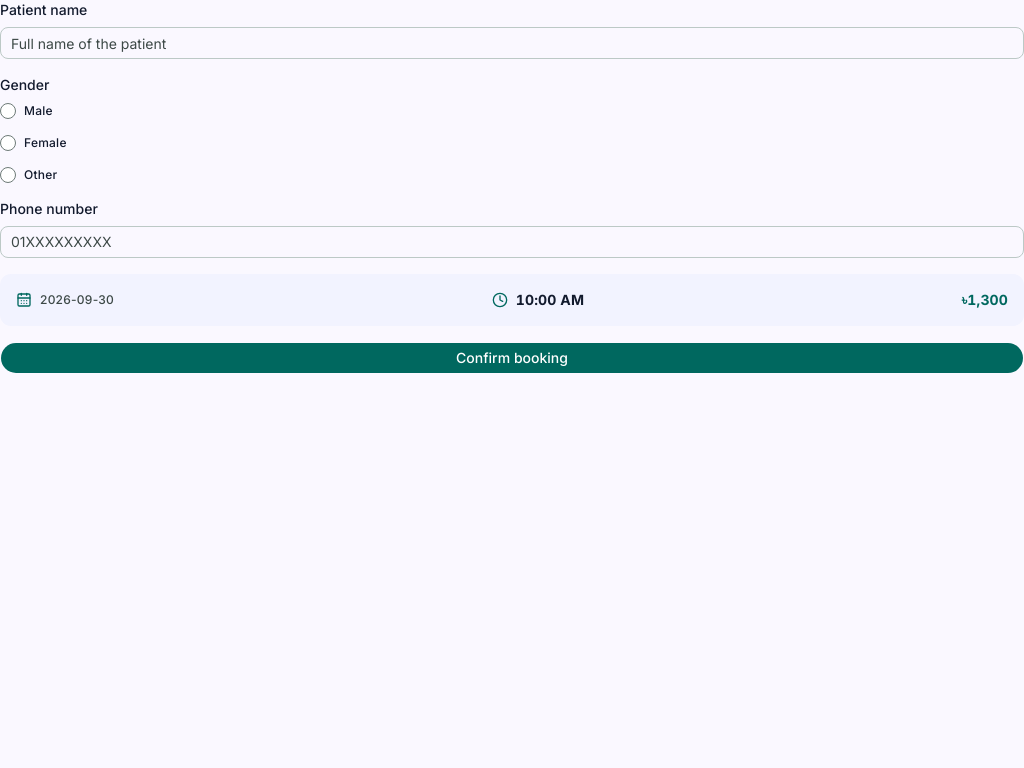
Scenario: BookingForm › posts the booking and opens the success dialog
This screenshot has width=1024, height=768.
Type "Rifat Hossain" into the field labelled "Patient name" at (512, 43), box [0,27,1023,59]
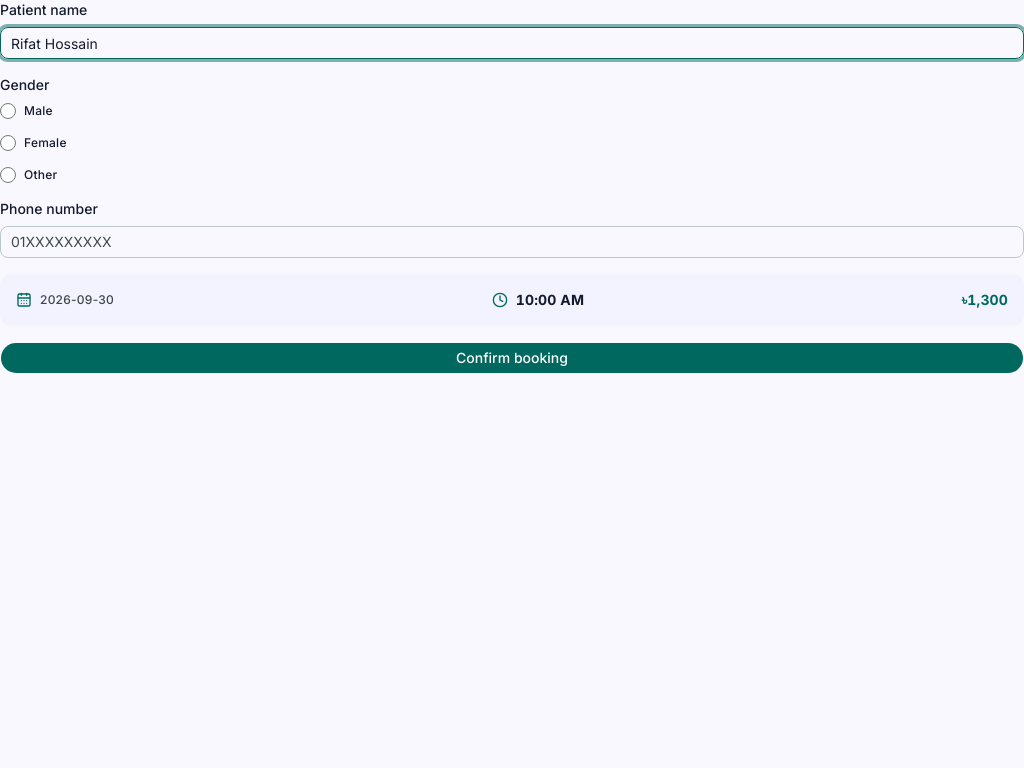
Click the 1st radio button named "Male" at (8, 110), box [0,102,16,118]
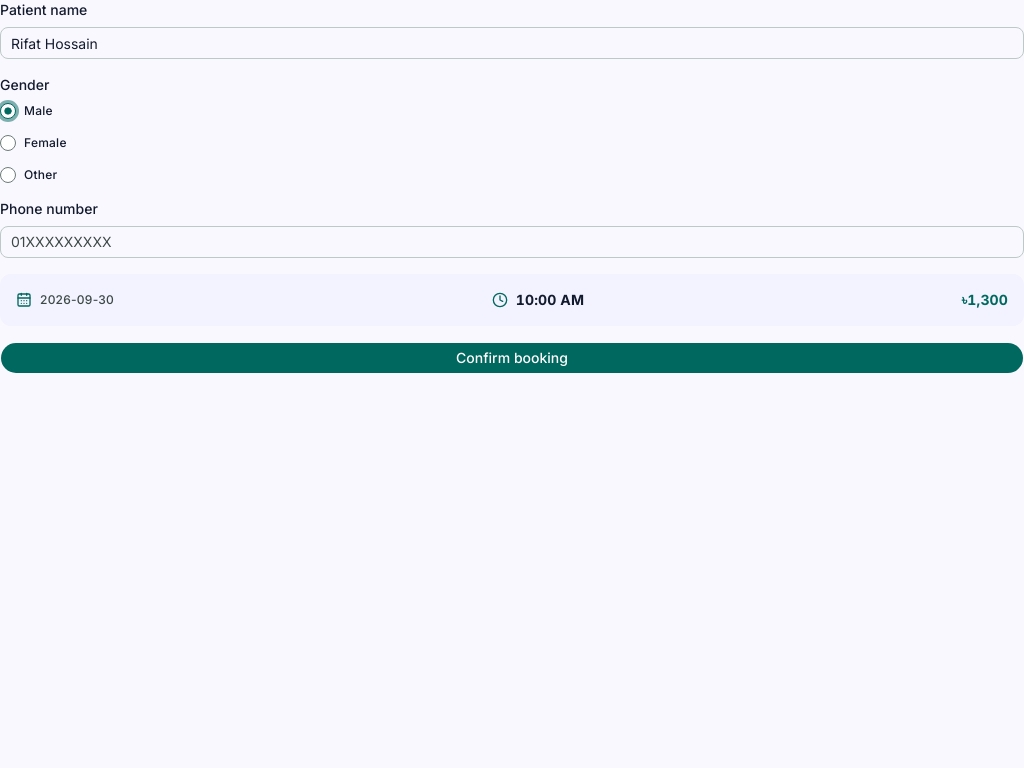
Type "01712345678" into the field labelled "Phone number" at (512, 242), box [0,226,1023,258]
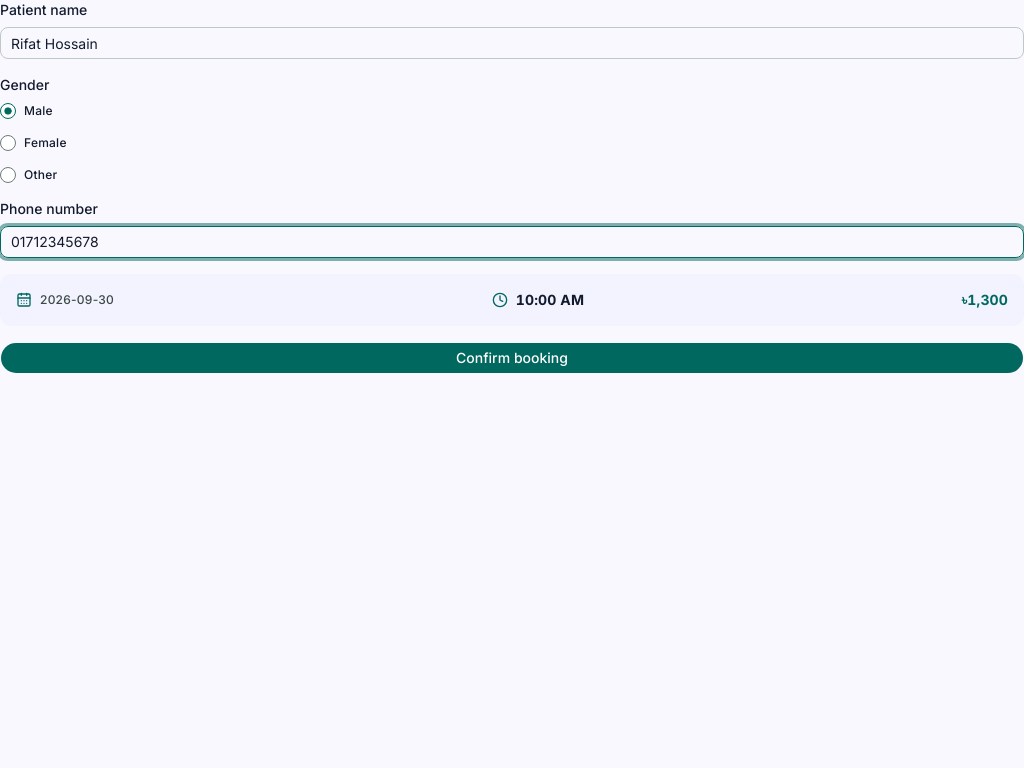
Click the button "Confirm booking" at (512, 358), box [0,342,1023,374]
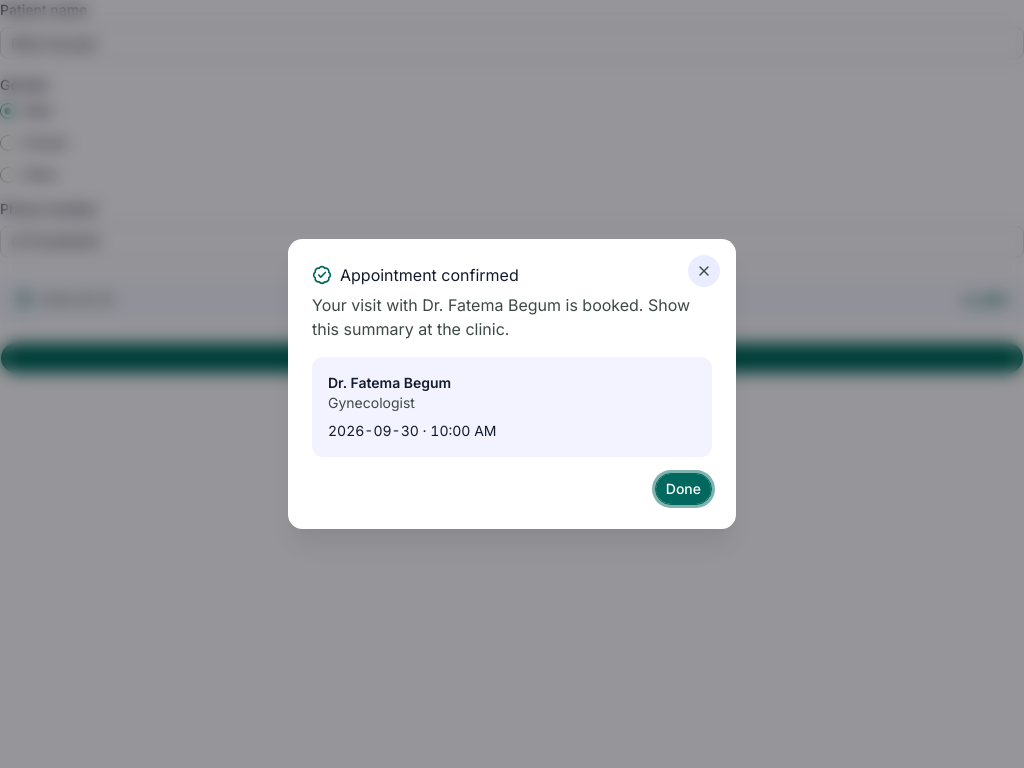
Result: the dialog "Appointment confirmed" is shown at [288,239,736,529]
Result: the text "2026-09-30 · 10:00 AM" is shown at [328,422,496,439]
